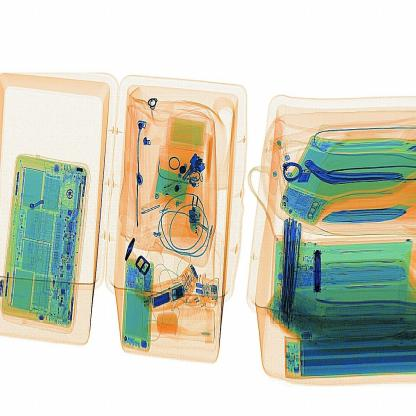scissors: (312, 248, 324, 294)
